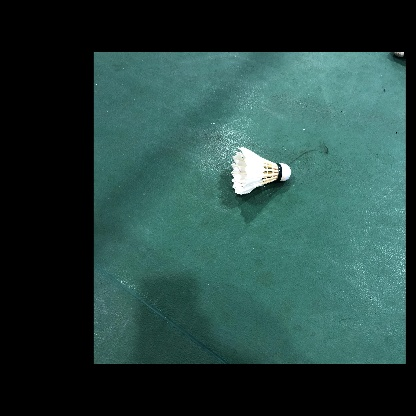ball_single: (231, 147, 291, 195)
